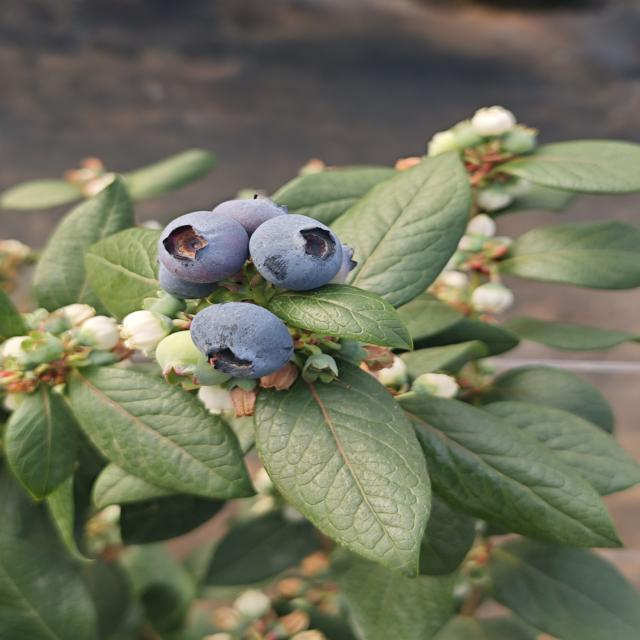ripe: (150, 205, 249, 301), (187, 300, 297, 381), (247, 212, 346, 292), (210, 190, 294, 260)
